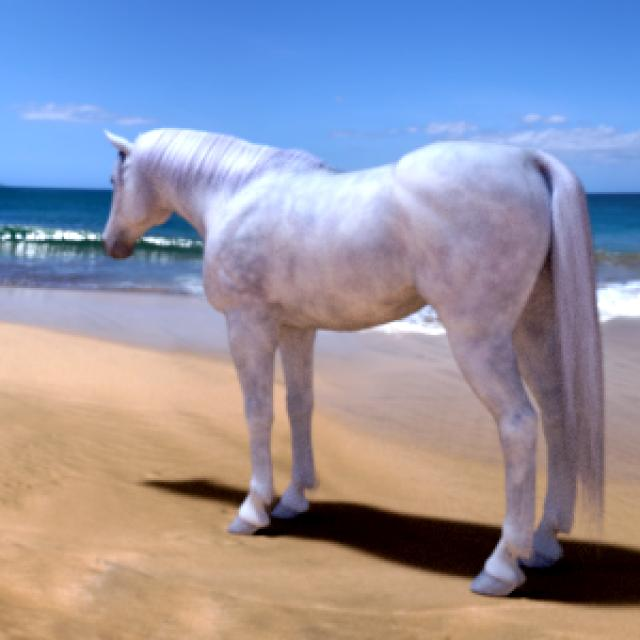horse: (106, 129, 602, 596)
